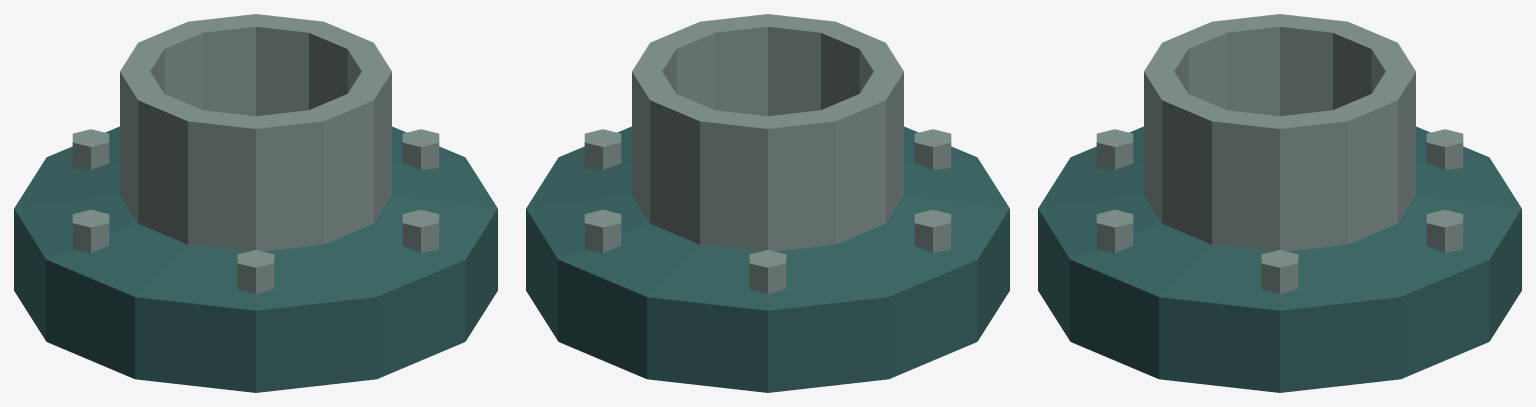
File: pipe-fitting.glb
3 renders of one model, left to right at view 1: azimuth 30°, elevation 25°; view 2: azimuth 150°, elevation 25°; view 3: azimuth 270°, elevation 25°, orthographic.
Parts seen in each view (by area): view 1: pipe-fitting__body; view 2: pipe-fitting__body; view 3: pipe-fitting__body.
Part boxes in pixels (x1,y1,x2,y2): pipe-fitting__body: [14, 14, 497, 392]; pipe-fitting__body: [526, 14, 1009, 392]; pipe-fitting__body: [1038, 14, 1521, 392].
Size of the model in its own units: 0.32 by 0.16 by 0.32.
